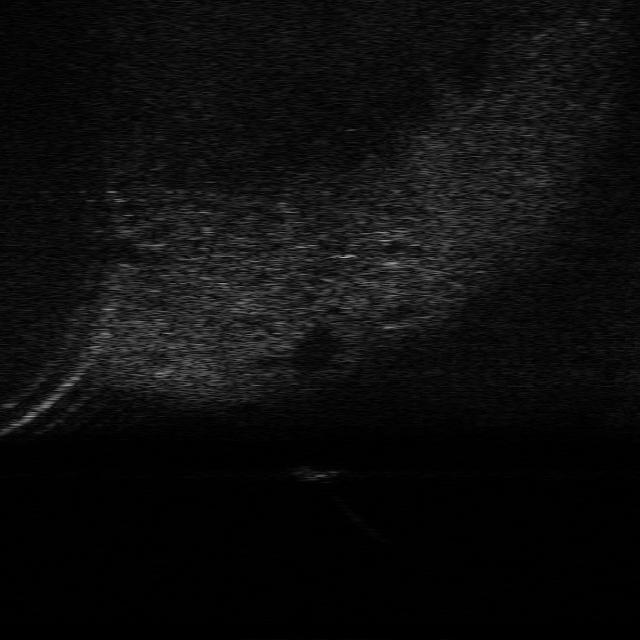cube: (290, 464, 344, 482)
